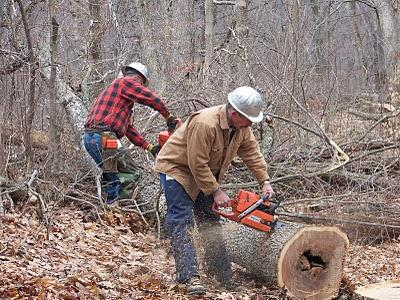person: (156, 87, 277, 295)
